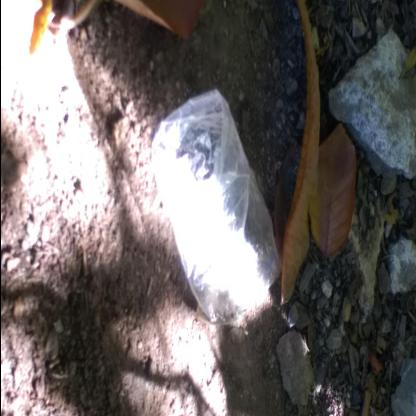plastik: (152, 88, 280, 326)
